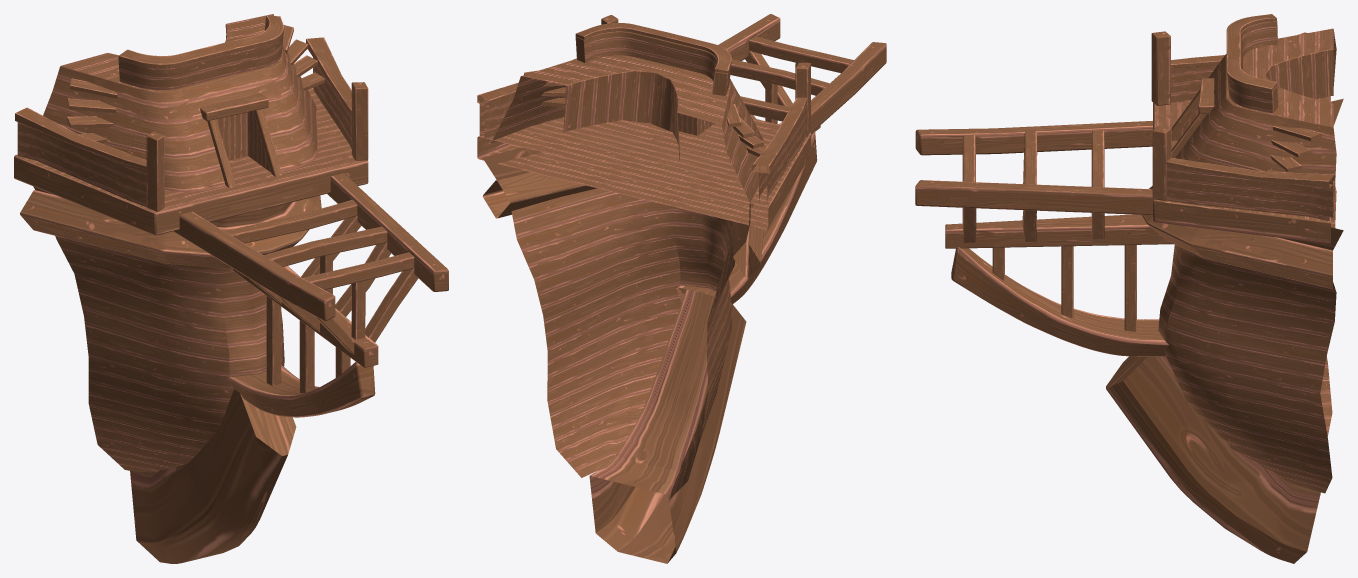
The model's file is SM_Building_ShipPart_01a.fbx.
3 views of the same model, side by side, from view 1: azimuth 30°, elevation 25°; view 2: azimuth 150°, elevation 25°; view 3: azimuth 270°, elevation 25° (orthographic). The views are drawn at different scales.
Parts seen in each view (by area): view 1: SM_Building_ShipPart_01a_LOD0; view 2: SM_Building_ShipPart_01a_LOD0; view 3: SM_Building_ShipPart_01a_LOD0.
Boxes of the visible parts, left/top/right/bottom form: SM_Building_ShipPart_01a_LOD0: left=14, top=14, right=448, bottom=563; SM_Building_ShipPart_01a_LOD0: left=477, top=14, right=886, bottom=563; SM_Building_ShipPart_01a_LOD0: left=915, top=14, right=1343, bottom=563.
Size of the model in its own units: 622 by 786 by 1020.
2 materials, 2 textured.
